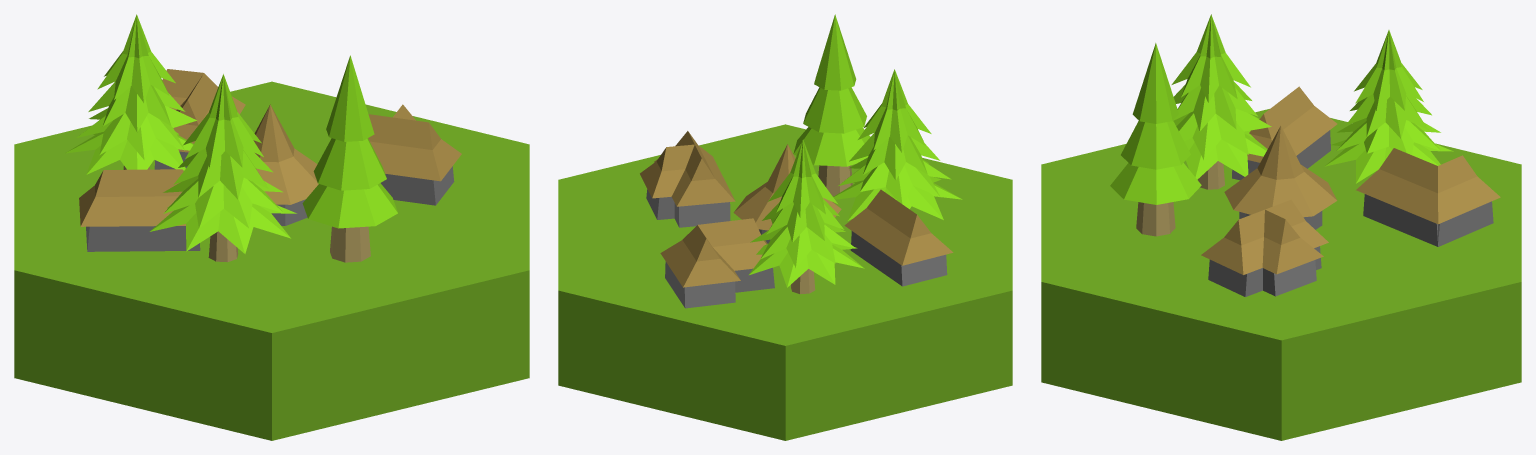
The model's file is Casas_Bosque_Pinos_6.fbx.
3 views of the same model, side by side, from view 1: azimuth 30°, elevation 25°; view 2: azimuth 150°, elevation 25°; view 3: azimuth 270°, elevation 25° (orthographic). The views are drawn at different scales.
Parts seen in each view (by area): view 1: Casas_Bosque_Pinos_6; view 2: Casas_Bosque_Pinos_6; view 3: Casas_Bosque_Pinos_6.
Part boxes in pixels (x1,y1,x2,y2): Casas_Bosque_Pinos_6: [14, 14, 529, 440]; Casas_Bosque_Pinos_6: [558, 14, 1012, 440]; Casas_Bosque_Pinos_6: [1041, 14, 1521, 440].
Size of the model in its own units: 200 by 114 by 173.
